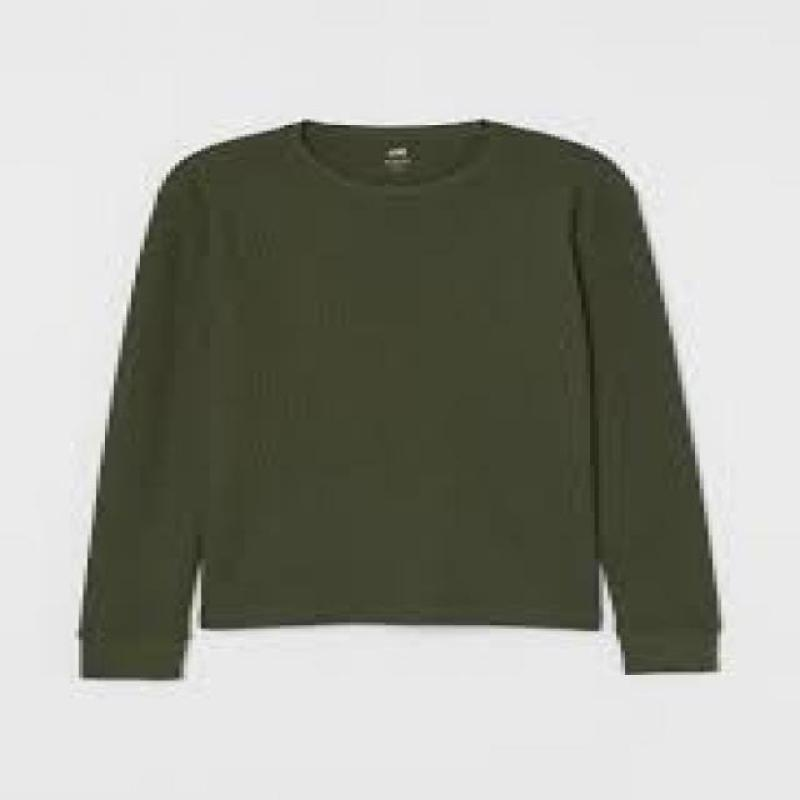sweater: (72, 115, 722, 681)
